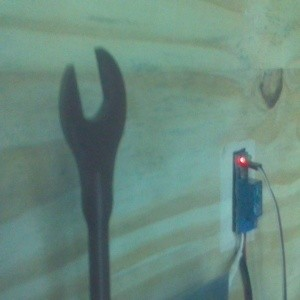spanner: (57, 46, 128, 300)
